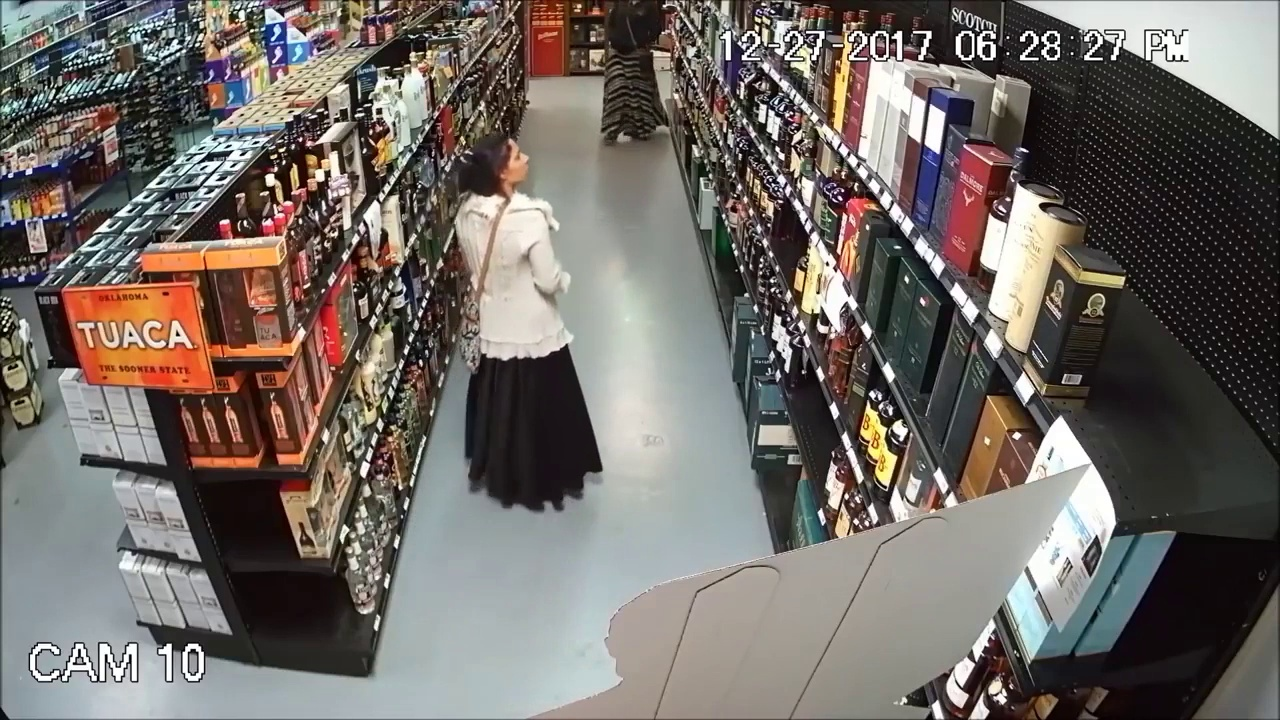face: (486, 138, 530, 188)
